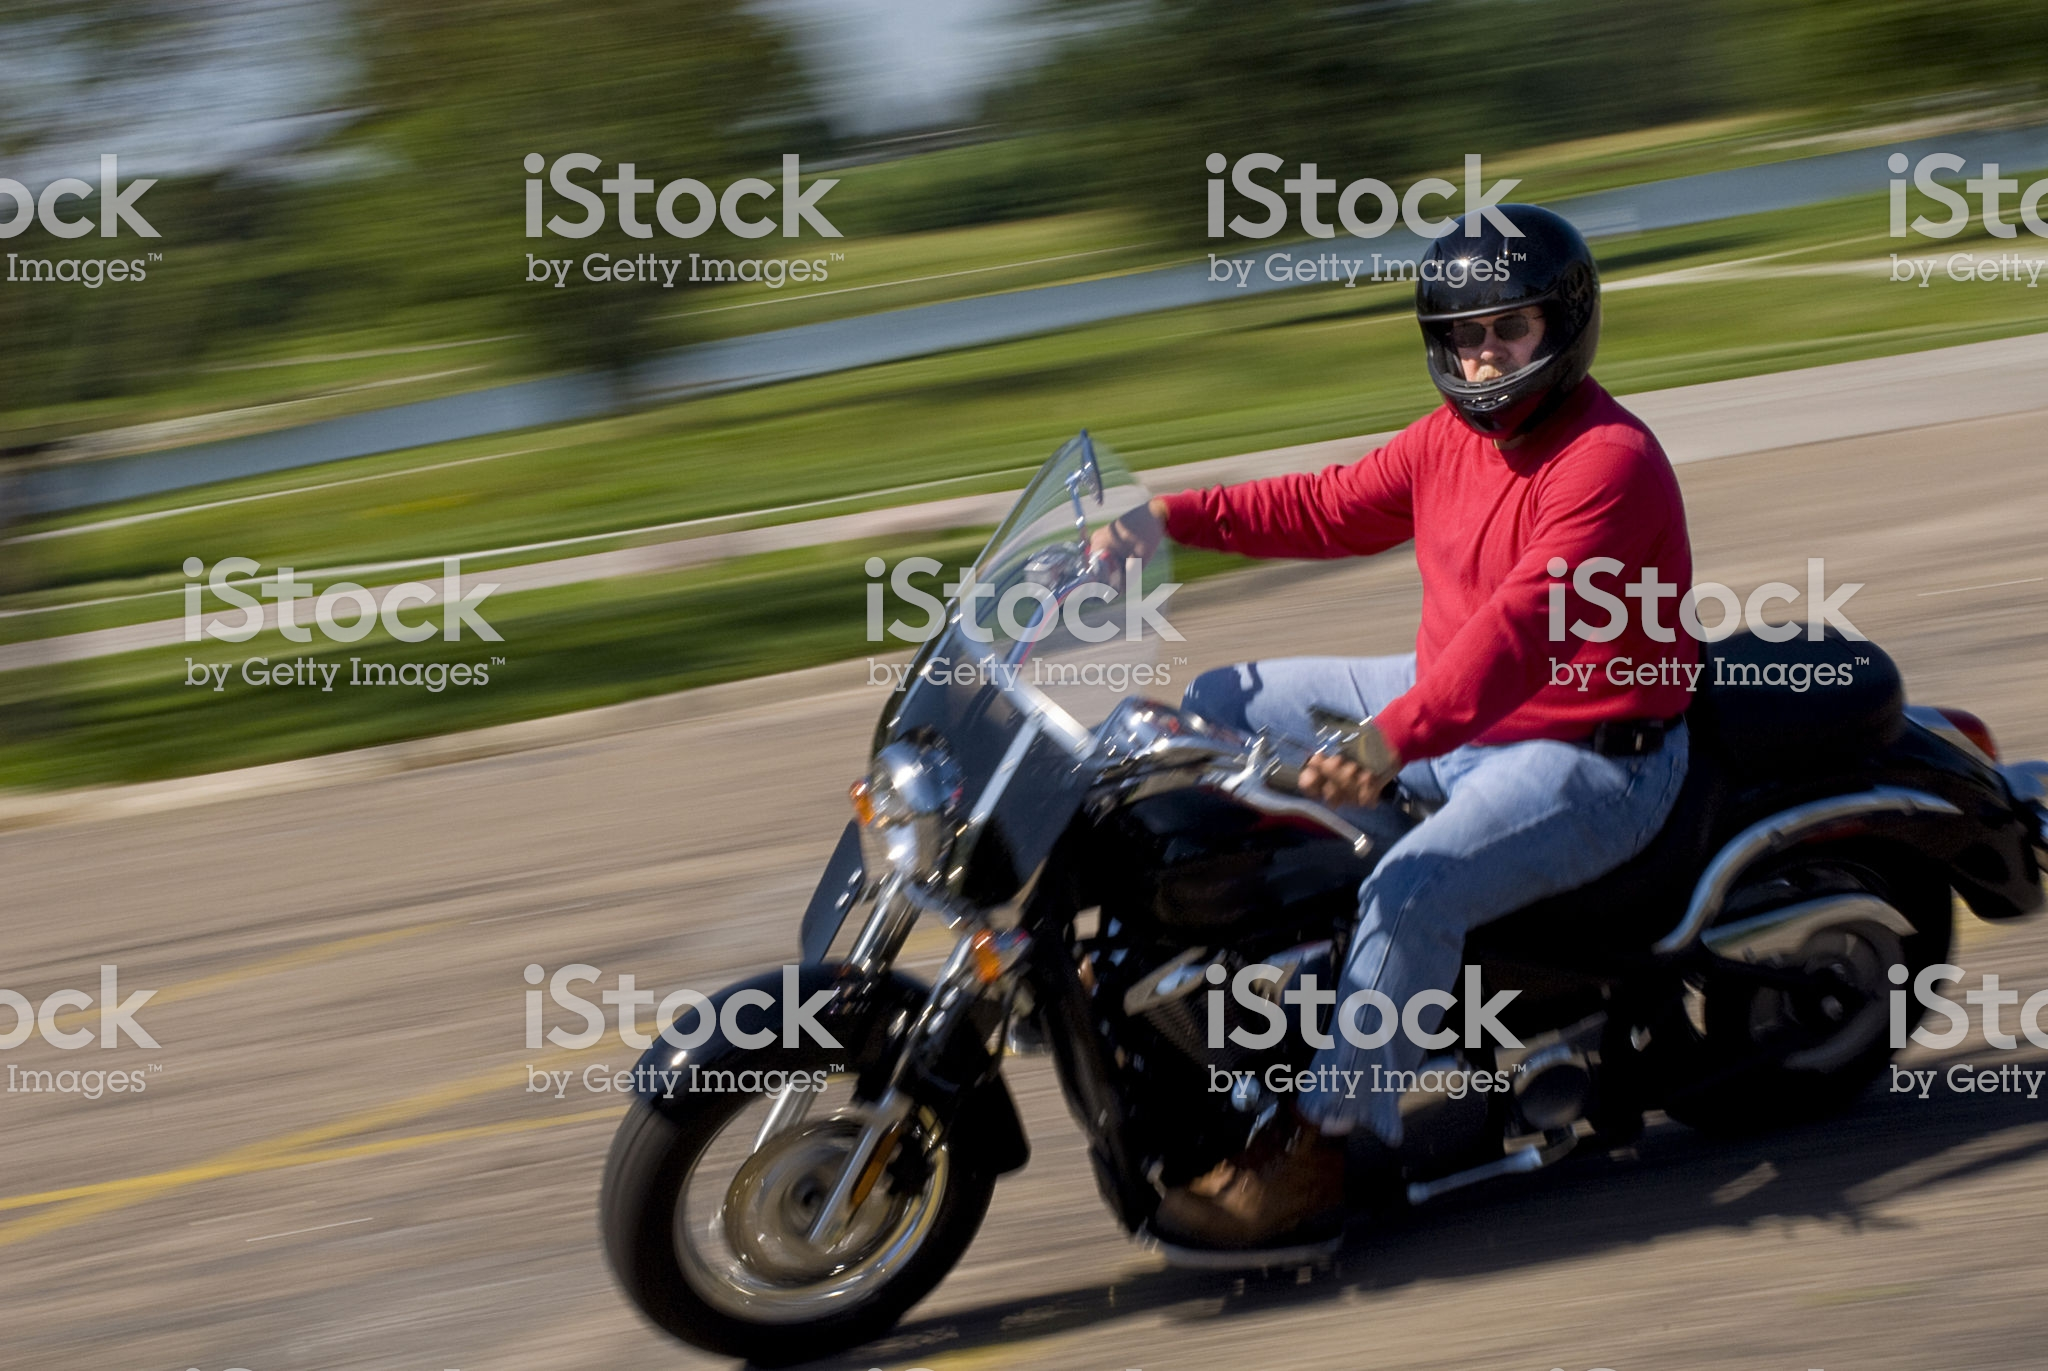helmet: (1392, 220, 1609, 445)
